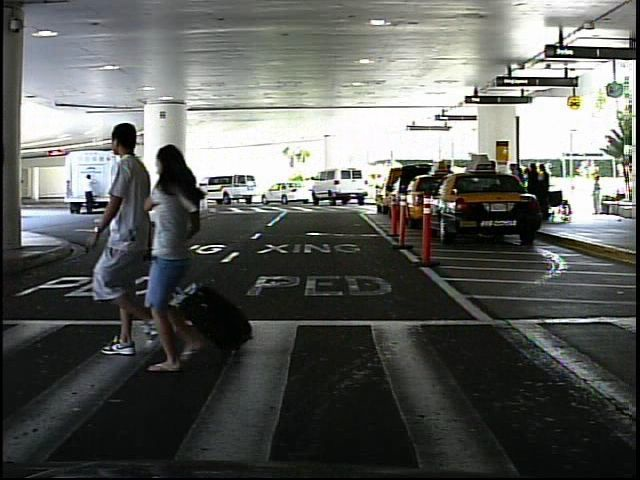person: (147, 132, 227, 378), (92, 115, 164, 364), (80, 170, 98, 220), (589, 172, 607, 218)
